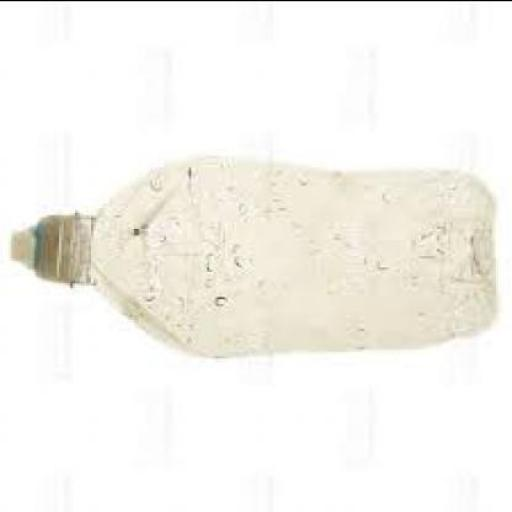plastic: (6, 152, 492, 362), (9, 214, 80, 289)
